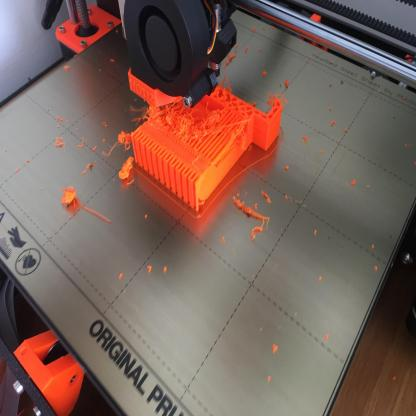fail: (162, 96, 234, 147)
